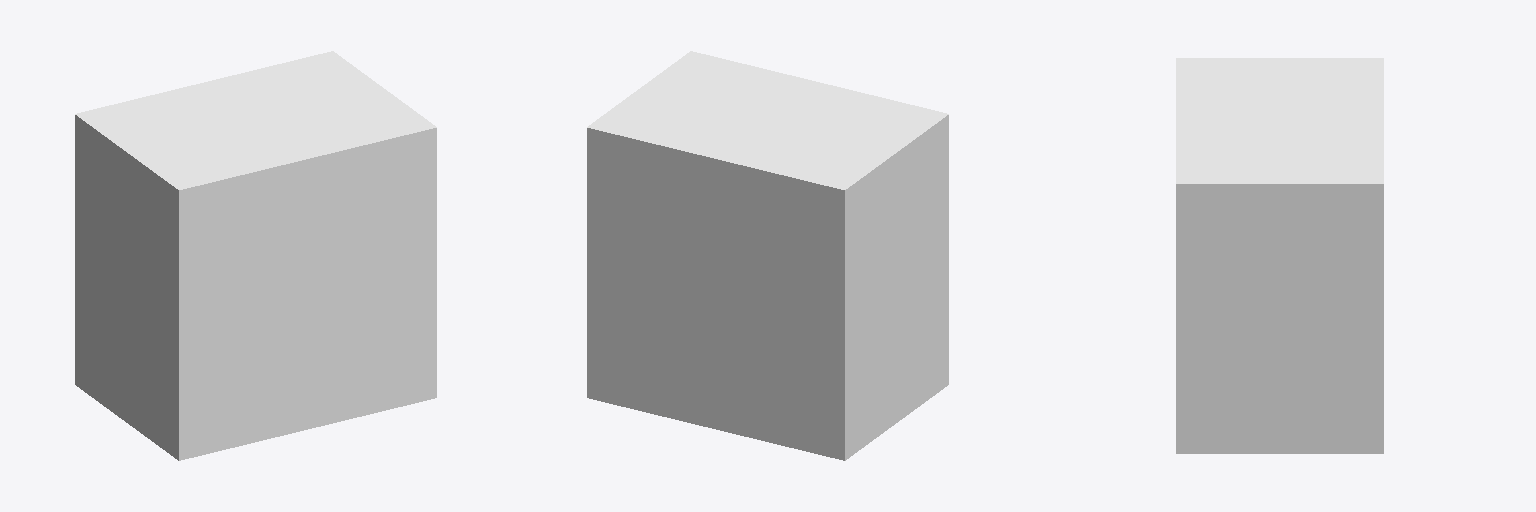
The model's file is StenaVulcano.obj.
3 renders of one model, left to right at view 1: azimuth 30°, elevation 25°; view 2: azimuth 150°, elevation 25°; view 3: azimuth 270°, elevation 25°, orthographic.
Visible parts, largest first — view 1: object 1; view 2: object 1; view 3: object 1.
Boxes of the visible parts, x1=… form: object 1: x1=75, y1=51, x2=436, y2=460; object 1: x1=587, y1=51, x2=948, y2=460; object 1: x1=1176, y1=58, x2=1383, y2=453.
Size of the model in its own units: 24 by 24 by 16.8.